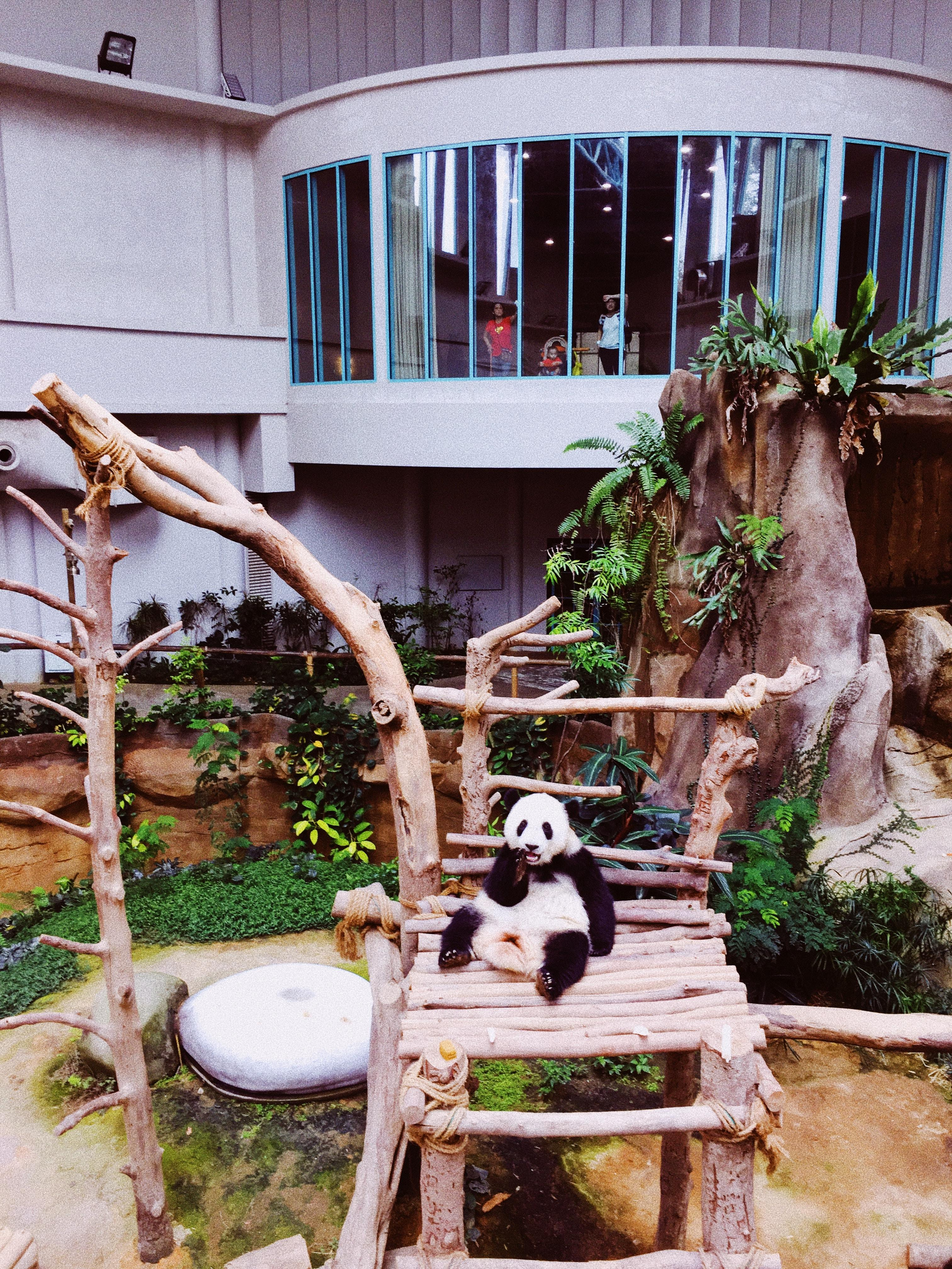panda: (432, 762, 632, 1034)
